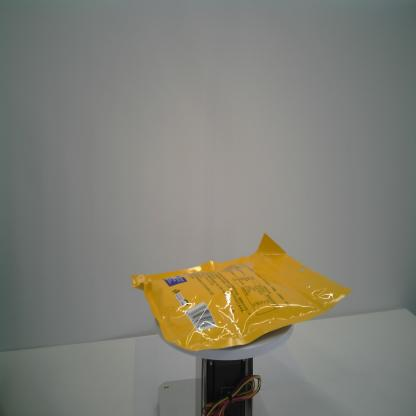Dried Fruit: (130, 232, 354, 353)
